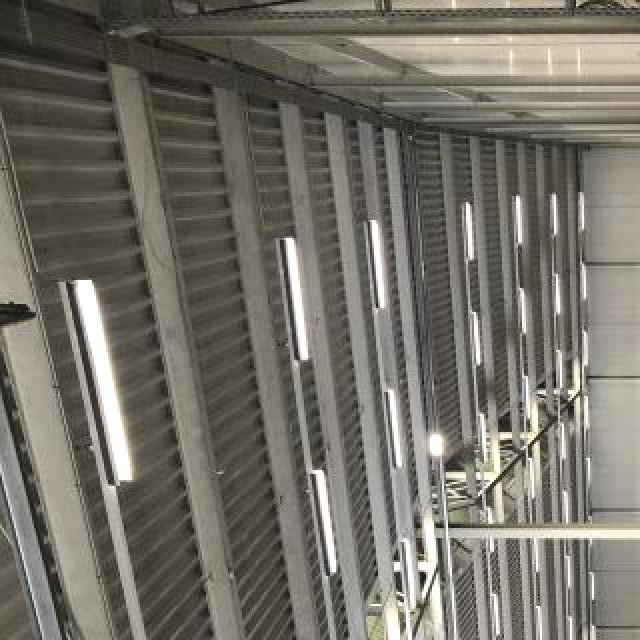fluorescent tube: (53, 265, 147, 502), (273, 231, 320, 371), (305, 462, 342, 580), (380, 383, 411, 473), (364, 213, 391, 315), (454, 189, 483, 271), (394, 533, 414, 622), (467, 298, 485, 373), (521, 449, 543, 500), (551, 345, 569, 406), (549, 264, 567, 324), (480, 592, 502, 640), (474, 407, 491, 469), (513, 194, 530, 254), (561, 549, 580, 596), (556, 415, 573, 467), (484, 500, 500, 555), (579, 256, 596, 306), (521, 372, 535, 424), (550, 185, 562, 244), (518, 284, 531, 337), (557, 485, 572, 530), (583, 390, 597, 436), (585, 564, 601, 604), (530, 535, 546, 573), (582, 323, 595, 369), (585, 451, 599, 491), (579, 185, 589, 240), (566, 610, 580, 640), (534, 600, 544, 640), (588, 622, 600, 640)
